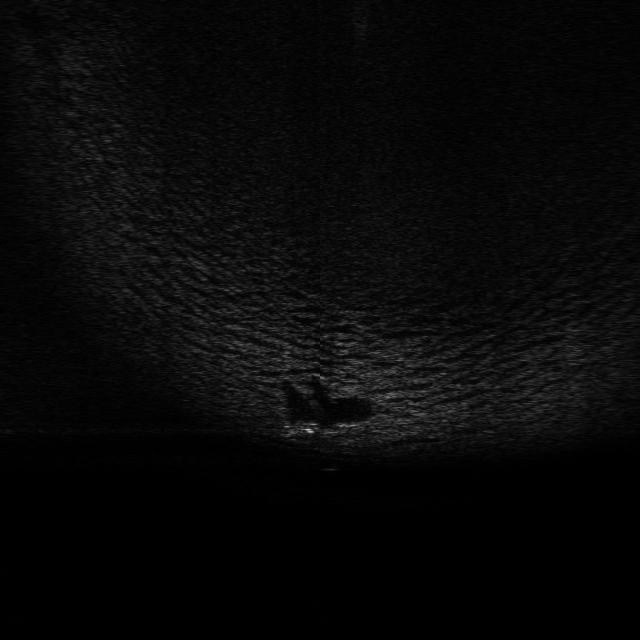plane: (278, 420, 361, 442)
